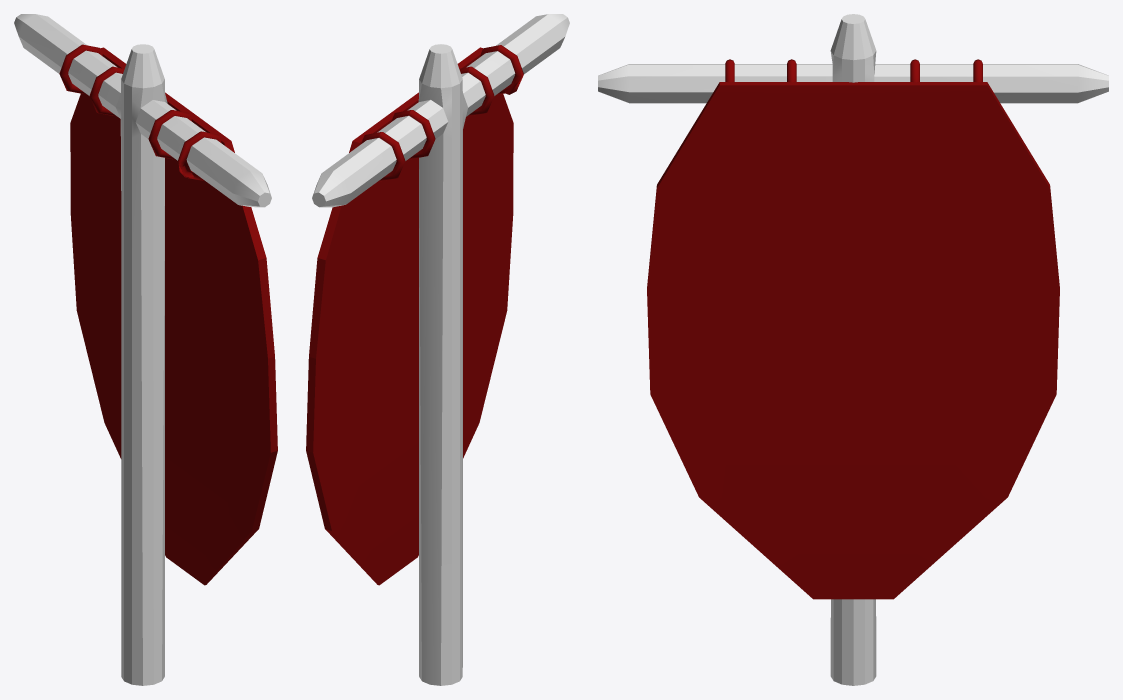
File: Banner_round.fbx
3 views of the same model, side by side, from view 1: azimuth 30°, elevation 25°; view 2: azimuth 150°, elevation 25°; view 3: azimuth 270°, elevation 25° (orthographic). The views are drawn at different scales.
Parts seen in each view (by area): view 1: pPlane2, pCylinder1; view 2: pPlane2, pCylinder1; view 3: pPlane2, pCylinder1.
Part boxes in pixels (bbox=[...]): pPlane2: bbox=[59, 44, 277, 585]; pCylinder1: bbox=[14, 14, 271, 685]; pPlane2: bbox=[306, 45, 523, 585]; pCylinder1: bbox=[312, 14, 569, 685]; pPlane2: bbox=[647, 59, 1059, 599]; pCylinder1: bbox=[598, 14, 1108, 685].
Bounding box in the file's own units: 2.65 × 23.43 × 16.5.
